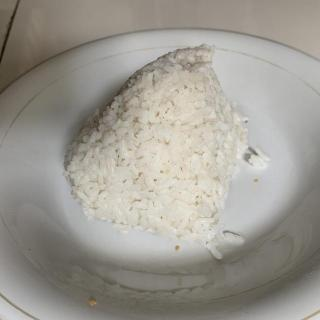Nasi: (66, 49, 248, 239)
